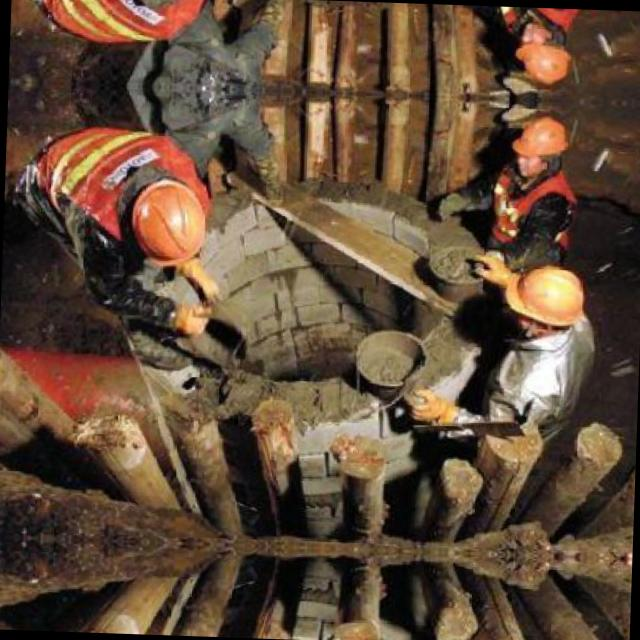helmet: (126, 170, 218, 269), (505, 260, 583, 338), (516, 28, 574, 82), (514, 114, 570, 168)
